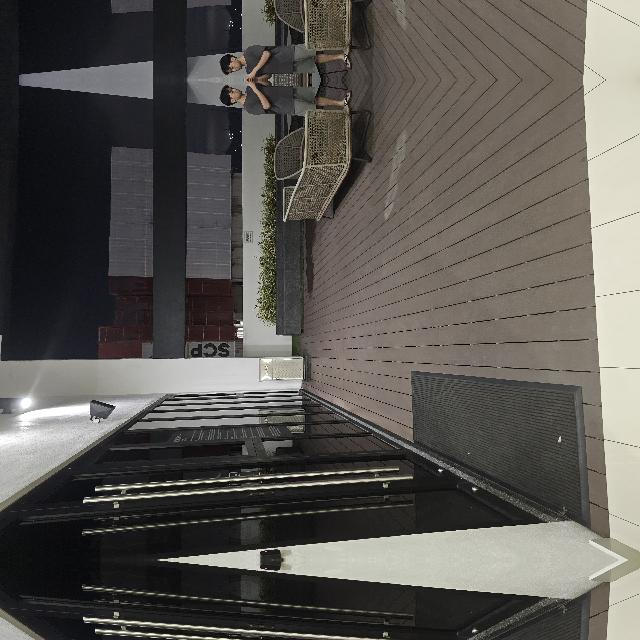obstacle: (336, 361, 456, 455), (222, 334, 428, 388), (231, 334, 425, 358), (176, 338, 206, 392)
person: (442, 292, 480, 428)
